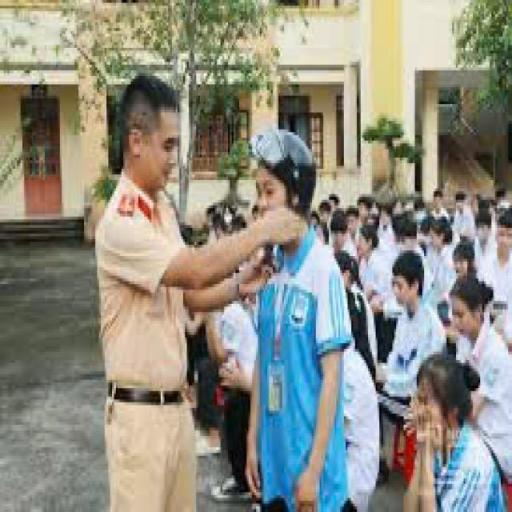with helmet: (250, 124, 318, 222)
